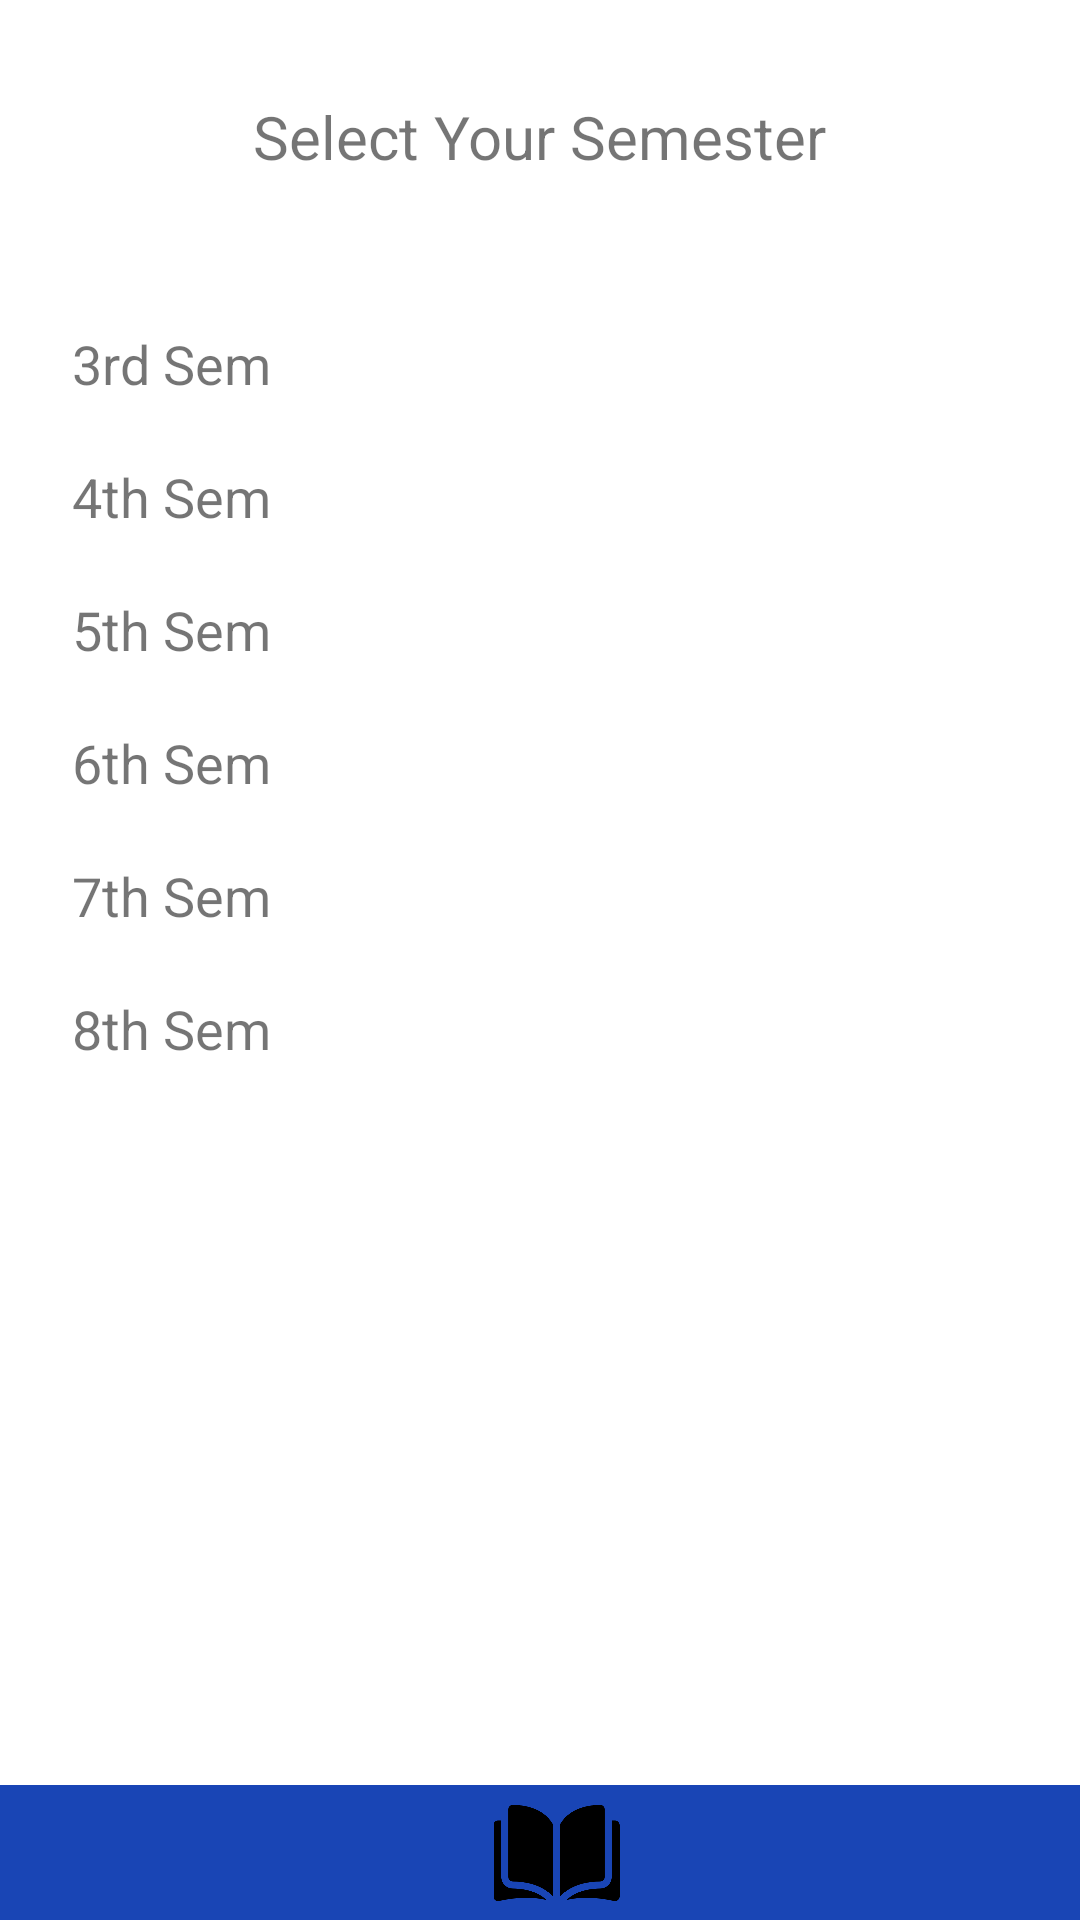

Named icons in this screenshot (1080 x 1920) and their centers, [x,y]:
book: [557,1853]
